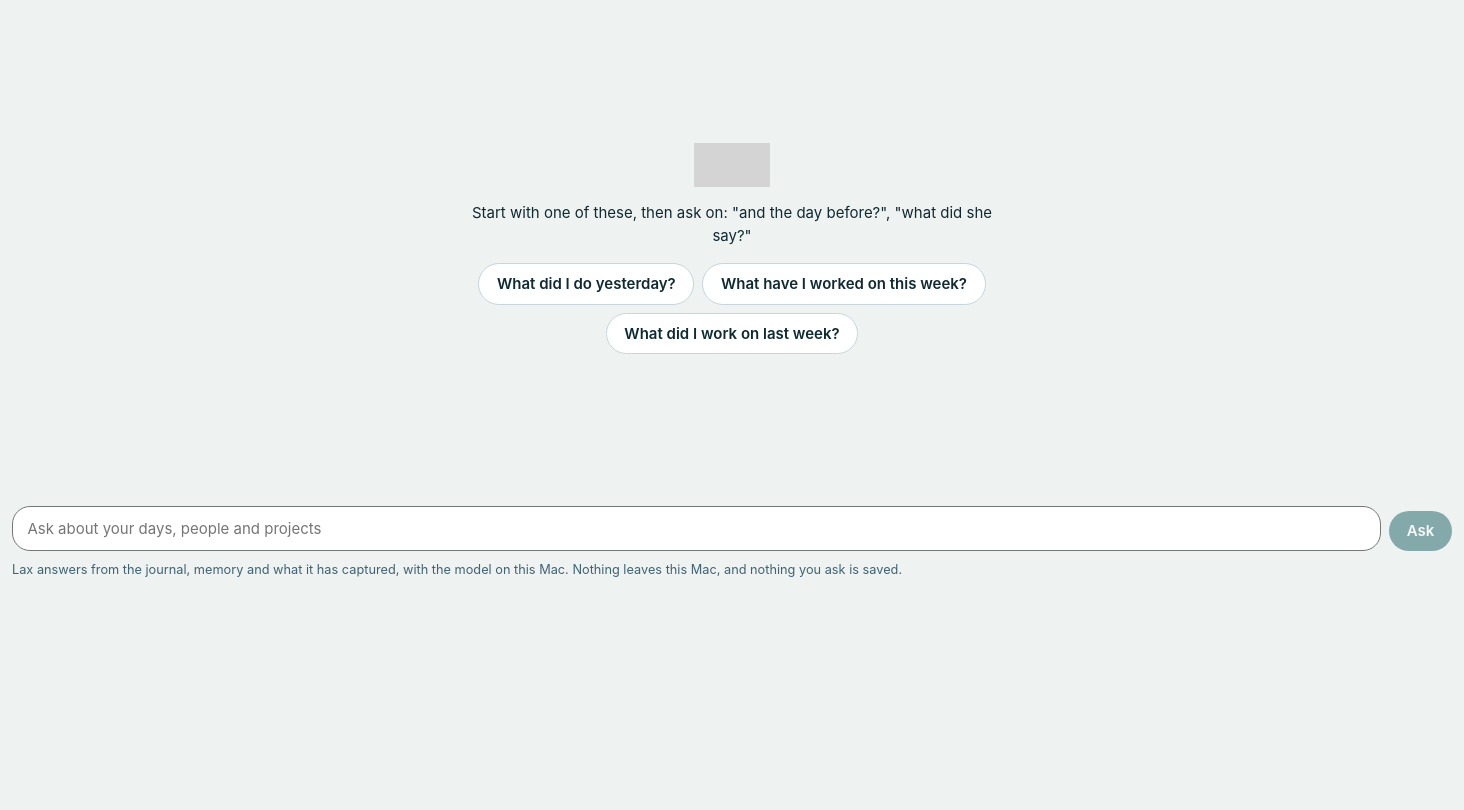
Test: Ask › an answer is shown as text, never as HTML
Type "What did I do yesterday?" into the text box named "Question" at (697, 528), box [12, 506, 1381, 551]
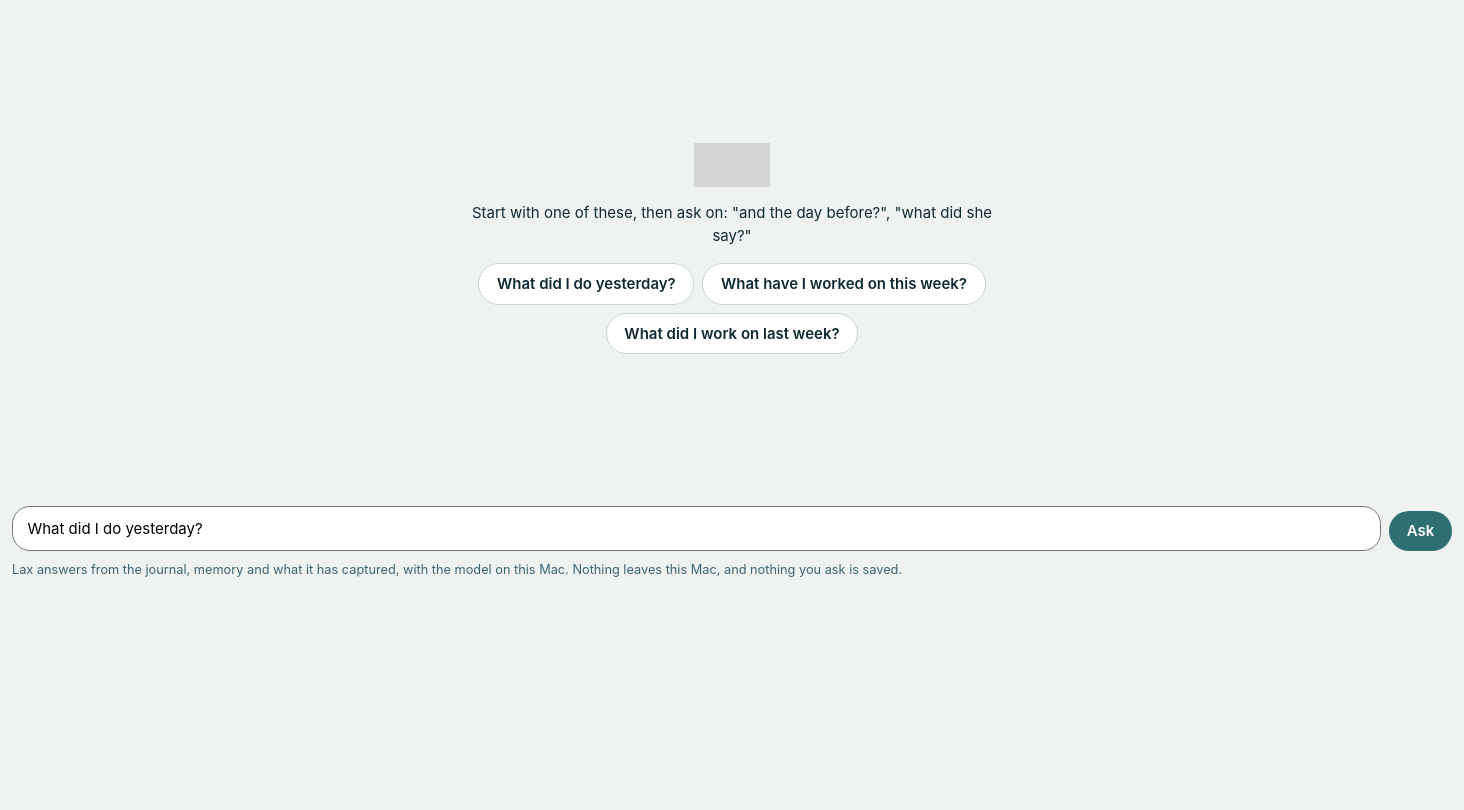
Press Enter in the text box named "Question", box [12, 506, 1381, 551]
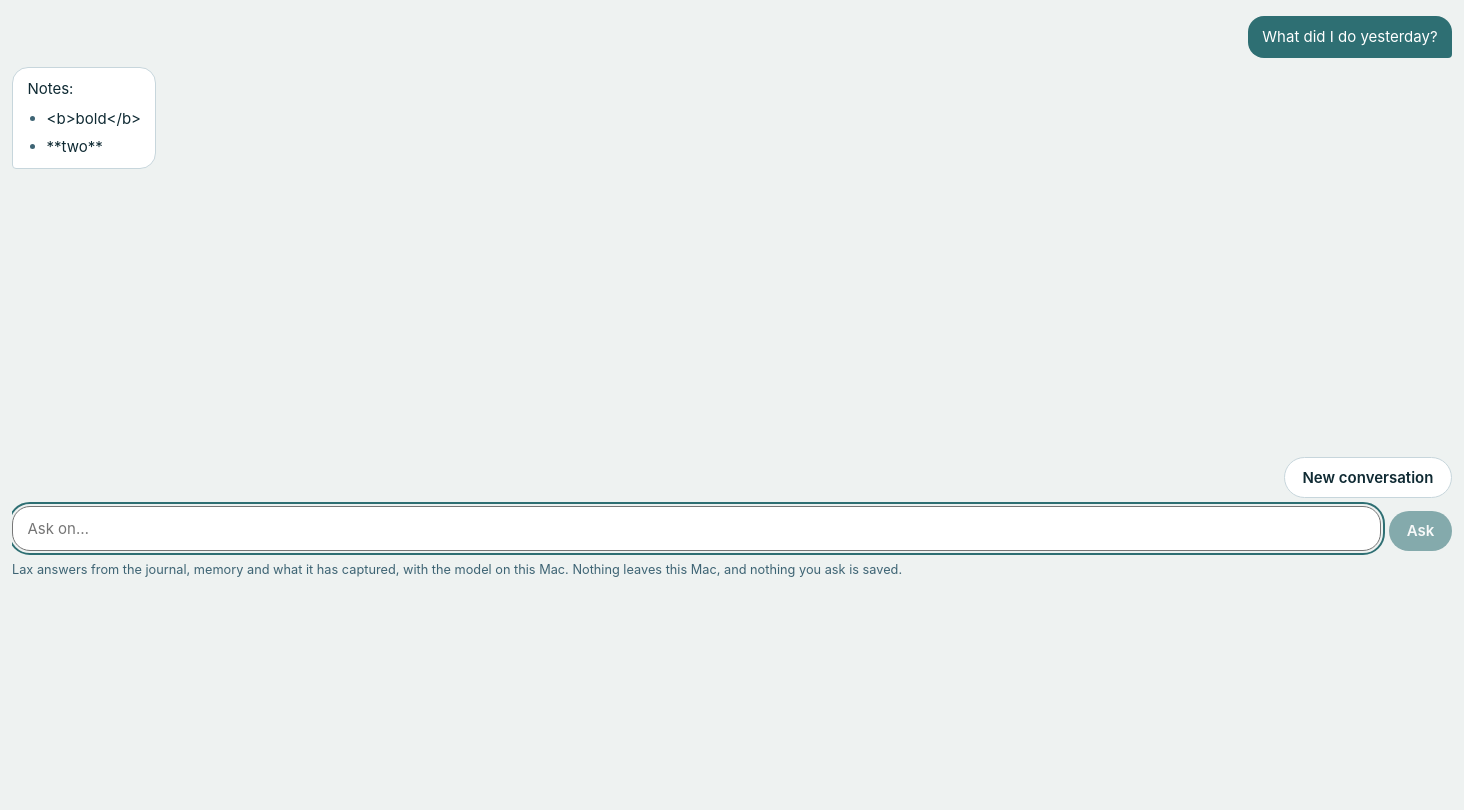
Expected: the list items read "<b>bold</b>", "**two**", in this order, [47, 108, 141, 131]; [47, 137, 103, 156]
